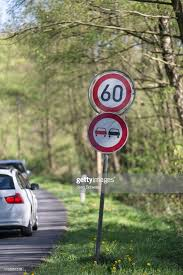sp60: (87, 63, 135, 112)
